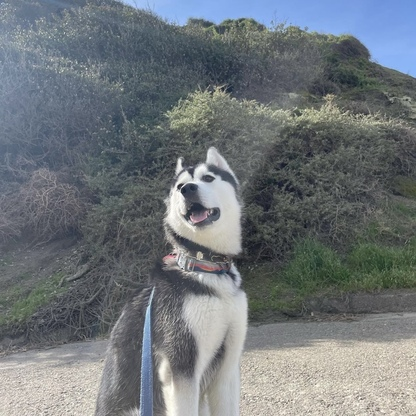husky: (90, 143, 253, 416)
